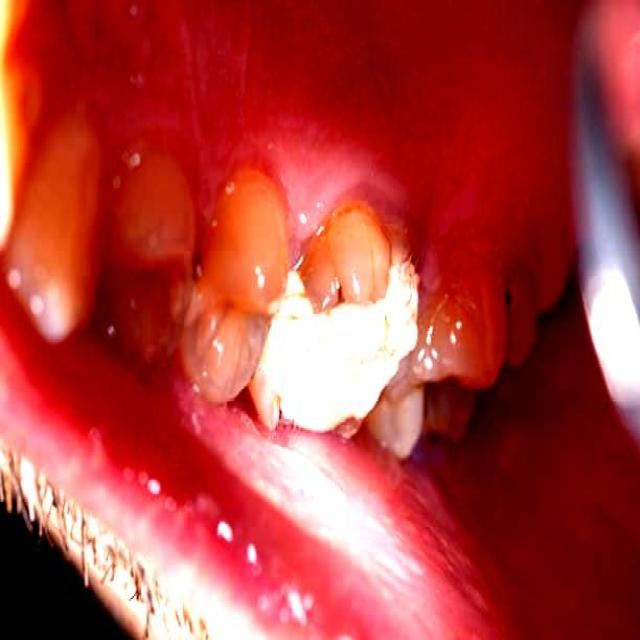caries: (266, 293, 405, 437)
